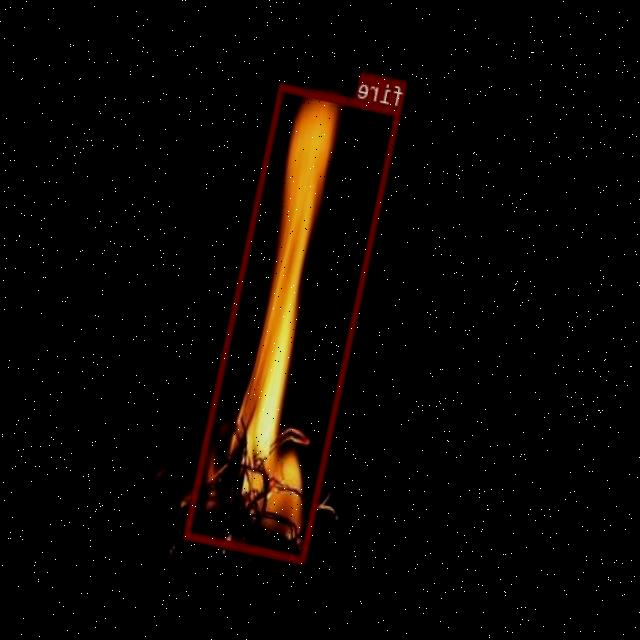fire: (185, 81, 402, 564)
